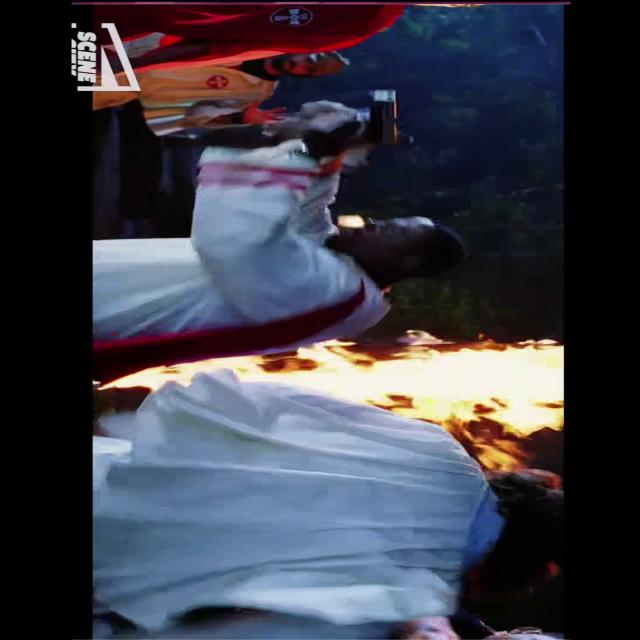weapons: (290, 71, 436, 149)
